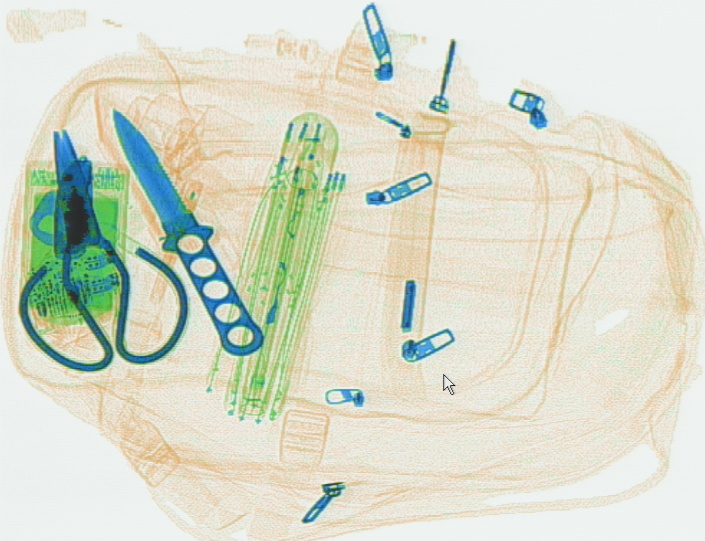knife: (102, 100, 265, 353)
scissors: (15, 138, 197, 373)
